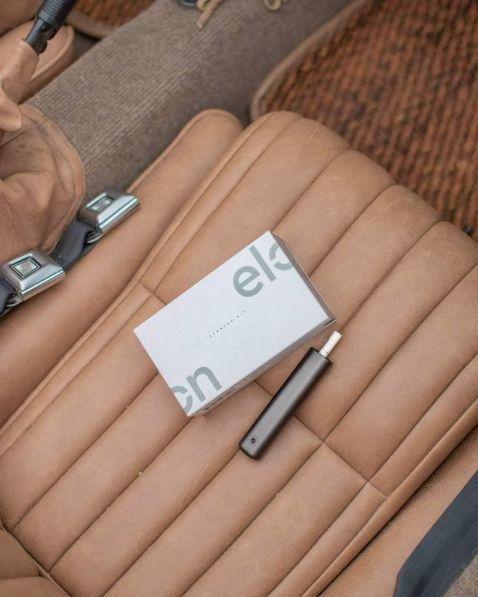iqos: (238, 331, 341, 458)
